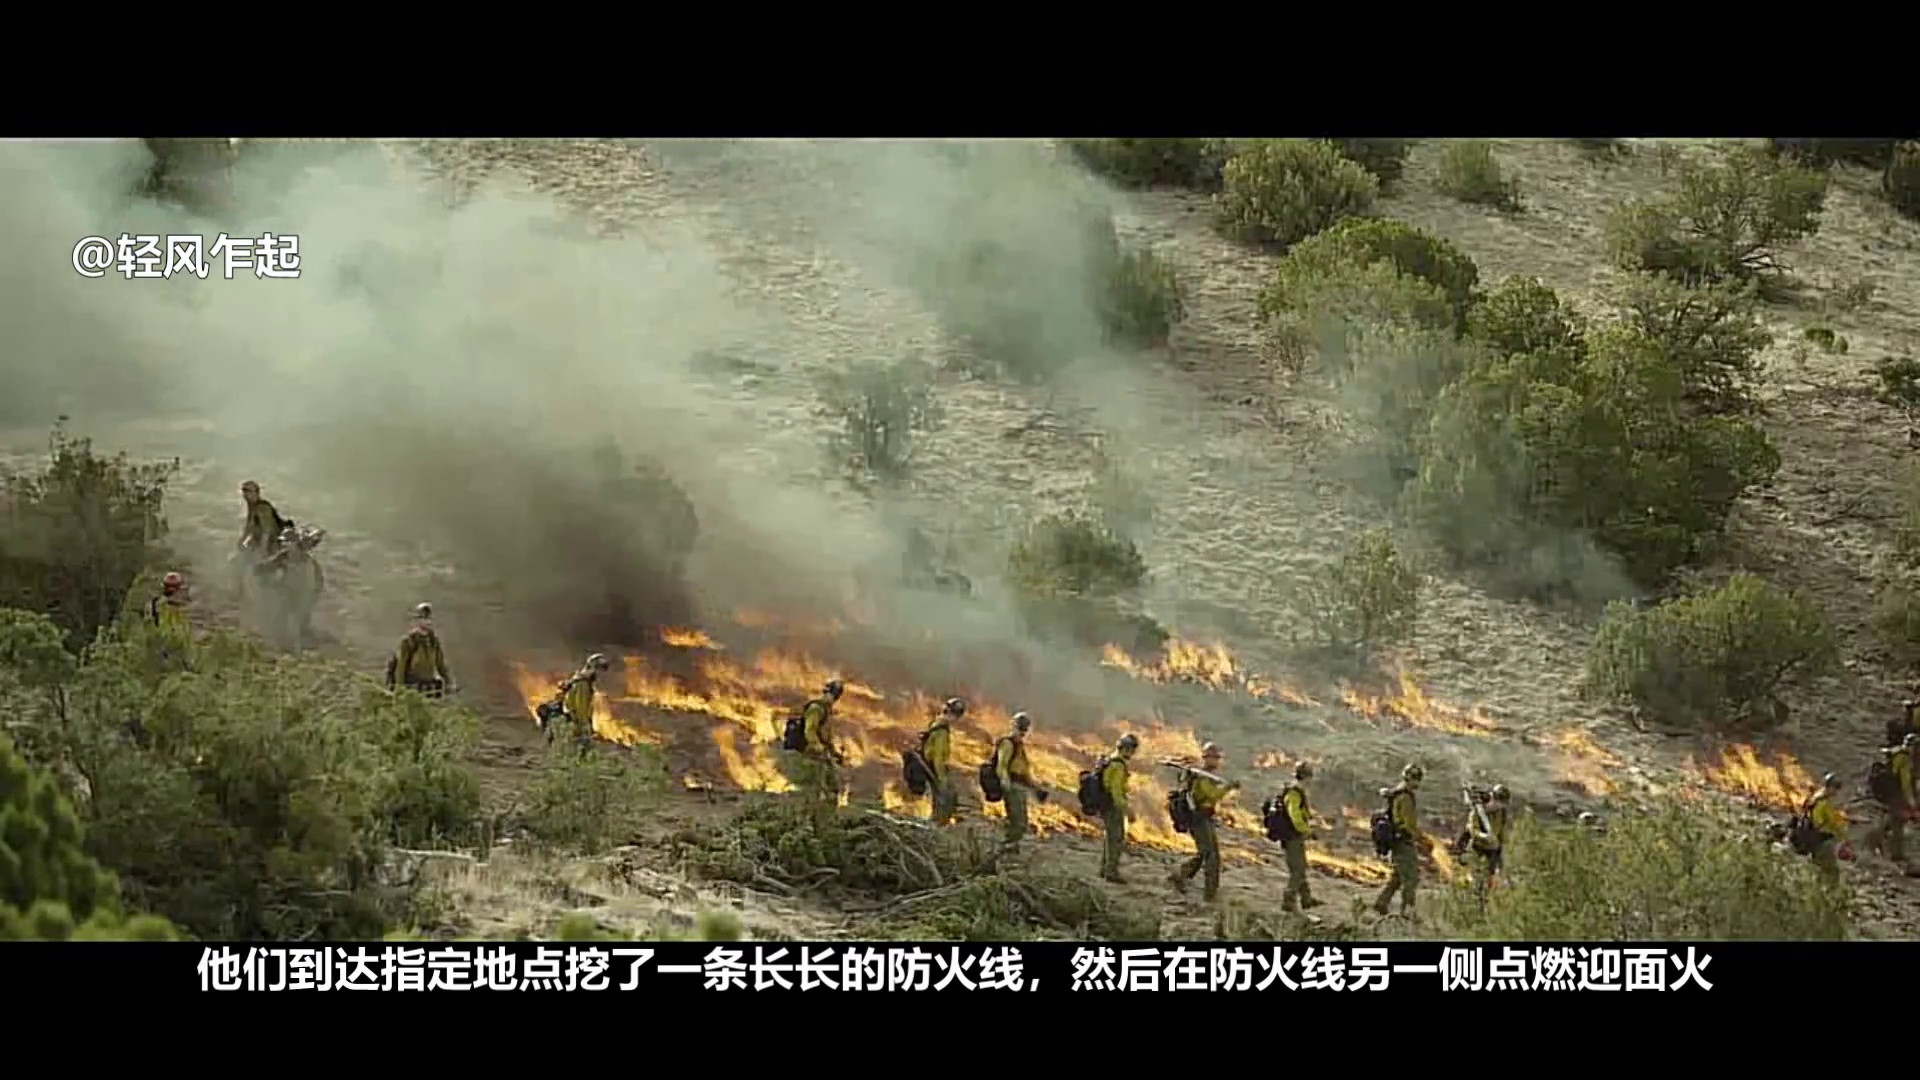fire: (1104, 637, 1259, 688), (753, 641, 832, 699), (1722, 752, 1811, 803), (721, 741, 796, 799), (1362, 684, 1440, 733), (663, 680, 742, 720), (1025, 742, 1079, 793), (1127, 814, 1185, 858), (1308, 847, 1389, 878), (592, 695, 636, 750), (1139, 723, 1195, 764), (949, 731, 989, 771), (659, 632, 713, 650)
